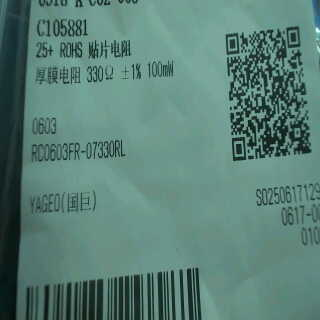330R: (86, 61, 119, 87)
